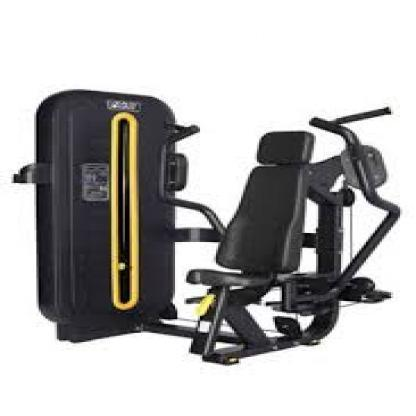chest fly machine: (7, 63, 416, 391)
